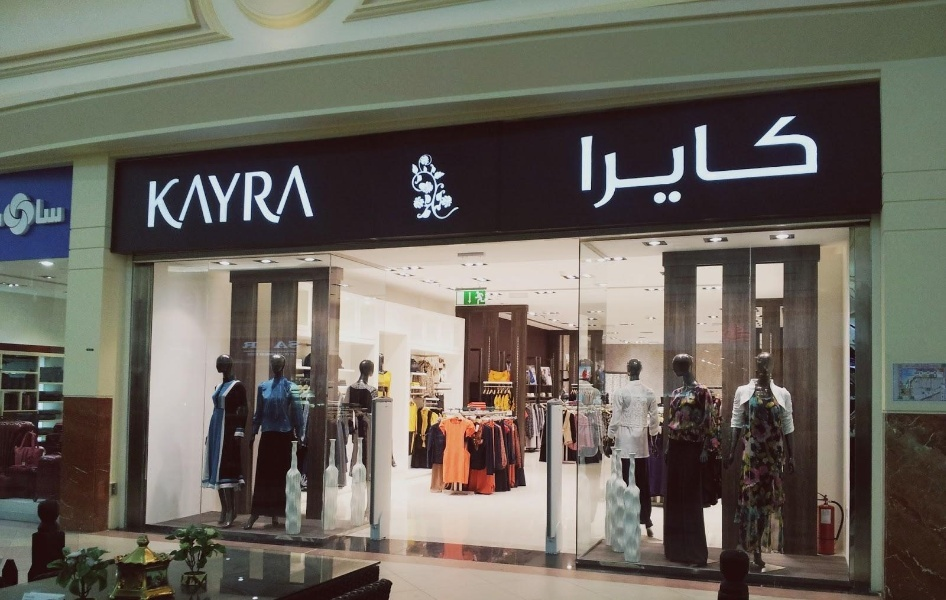text: (593, 111, 608, 213), (609, 111, 624, 213), (625, 111, 640, 213), (641, 111, 656, 213), (657, 111, 672, 213), (673, 111, 688, 213), (689, 111, 704, 213), (705, 111, 720, 213), (721, 111, 736, 213), (737, 111, 752, 213), (753, 111, 768, 213), (769, 111, 784, 213), (785, 111, 800, 213), (801, 111, 816, 213), (579, 111, 592, 213), (161, 162, 176, 232), (177, 162, 192, 232), (193, 162, 208, 232), (209, 162, 224, 232), (225, 162, 240, 232), (241, 162, 256, 232), (257, 162, 272, 232), (273, 162, 288, 232), (289, 162, 304, 232), (305, 162, 320, 232), (148, 162, 160, 232), (817, 111, 822, 213), (49, 198, 64, 225), (35, 198, 48, 225), (321, 162, 322, 232), (65, 198, 66, 225)
